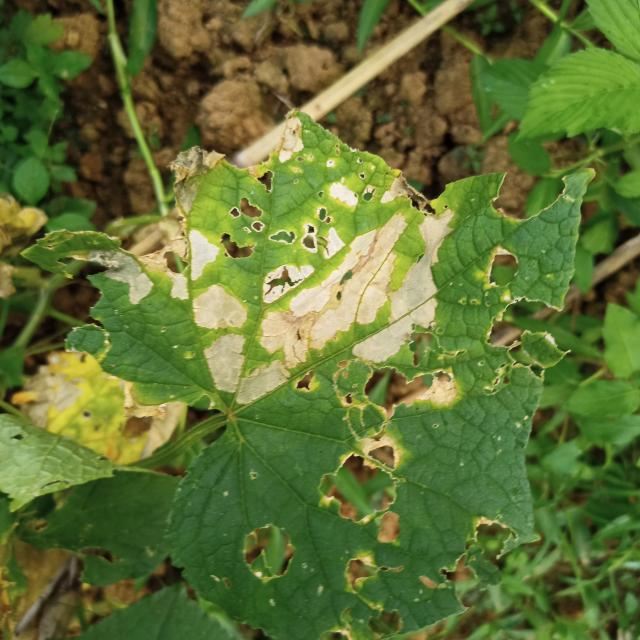disease_cucumber: (315, 172, 525, 602), (118, 164, 454, 386)
